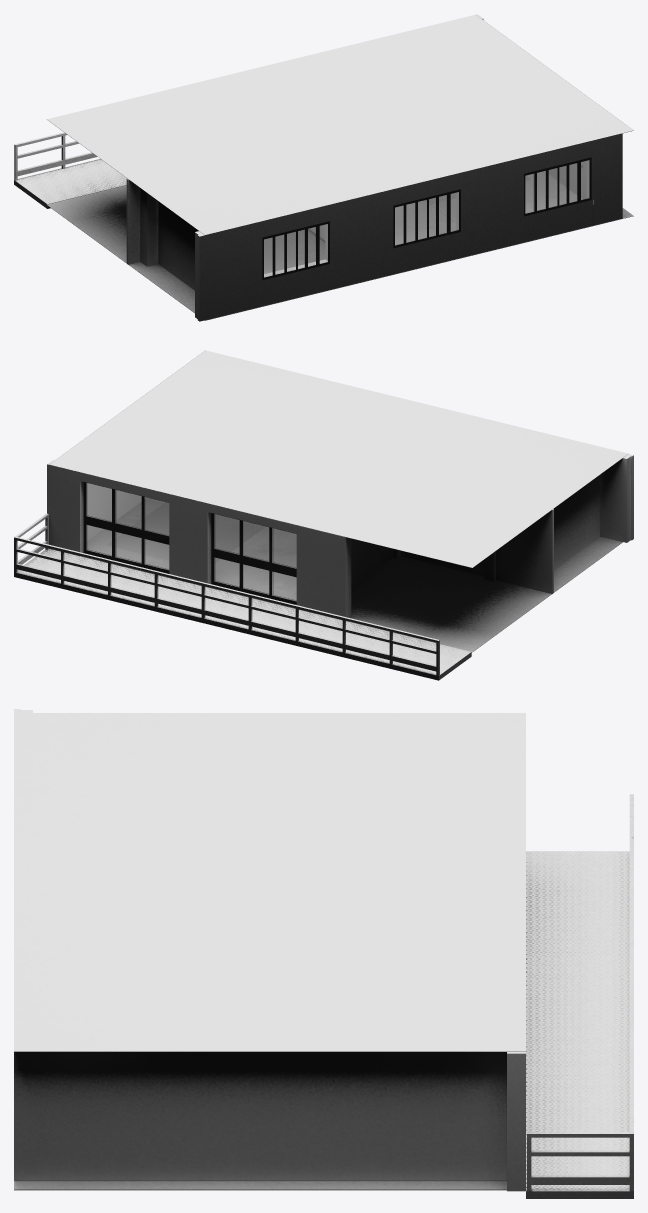
File: Lab_v2.glb
The picture shows the model from 3 angles, top to bottom: view 1: azimuth 30°, elevation 25°; view 2: azimuth 150°, elevation 25°; view 3: azimuth 270°, elevation 25°; orthographic projection. The views are drawn at different scales.
Parts seen in each view (by area): view 1: roof0, wall, floor, floor00, est_pav, w1, w3, w2, pw1, estpar, pw2, pw3; view 2: roof0, wall, floor, est_pav, floor00, estpar, pfin1w, pfin2w, pfin2, pfin1; view 3: roof0, wall, est_pav, floor, estpar.
Boxes of the visible parts, x1,y1,x2,y2 form: roof0: [47, 14, 633, 235]; wall: [126, 14, 622, 321]; floor: [47, 185, 633, 320]; floor00: [264, 171, 582, 273]; est_pav: [14, 159, 126, 208]; w1: [525, 160, 589, 213]; w3: [264, 224, 327, 277]; w2: [395, 192, 458, 245]; pw1: [524, 157, 591, 216]; estpar: [14, 132, 97, 180]; pw2: [393, 189, 460, 248]; pw3: [262, 221, 329, 280]; roof0: [49, 350, 628, 567]; wall: [47, 454, 633, 620]; floor: [346, 536, 622, 652]; est_pav: [14, 549, 471, 680]; floor00: [80, 497, 296, 608]; estpar: [14, 513, 439, 675]; pfin1w: [214, 514, 296, 600]; pfin2w: [87, 483, 169, 569]; pfin2: [83, 482, 169, 573]; pfin1: [211, 513, 296, 604]; roof0: [14, 713, 525, 1051]; wall: [14, 709, 525, 1191]; est_pav: [526, 851, 633, 1198]; floor: [14, 1180, 506, 1190]; estpar: [527, 794, 633, 1191].
Size of what is drawn, in the model's own units: 19.35 by 3.81 by 14.71.
Materials: 97 (95 with a texture image).
